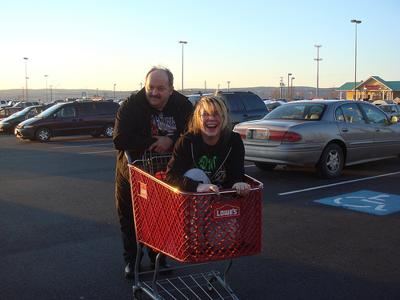person: (114, 66, 197, 279)
